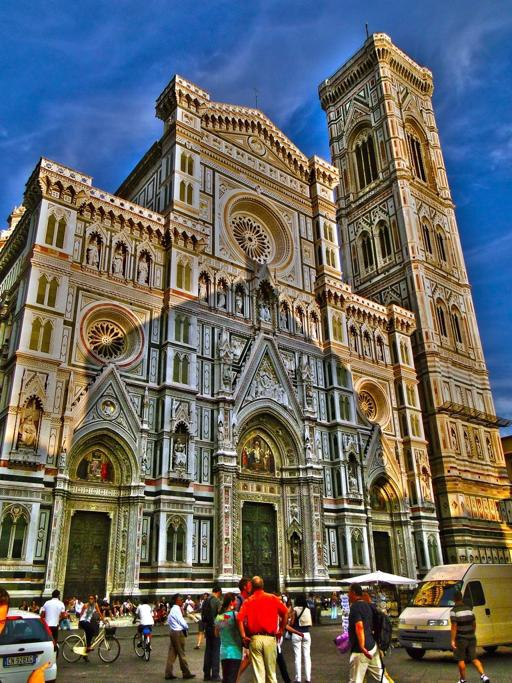non-vehicle: (61, 617, 121, 663), (131, 619, 151, 661)
